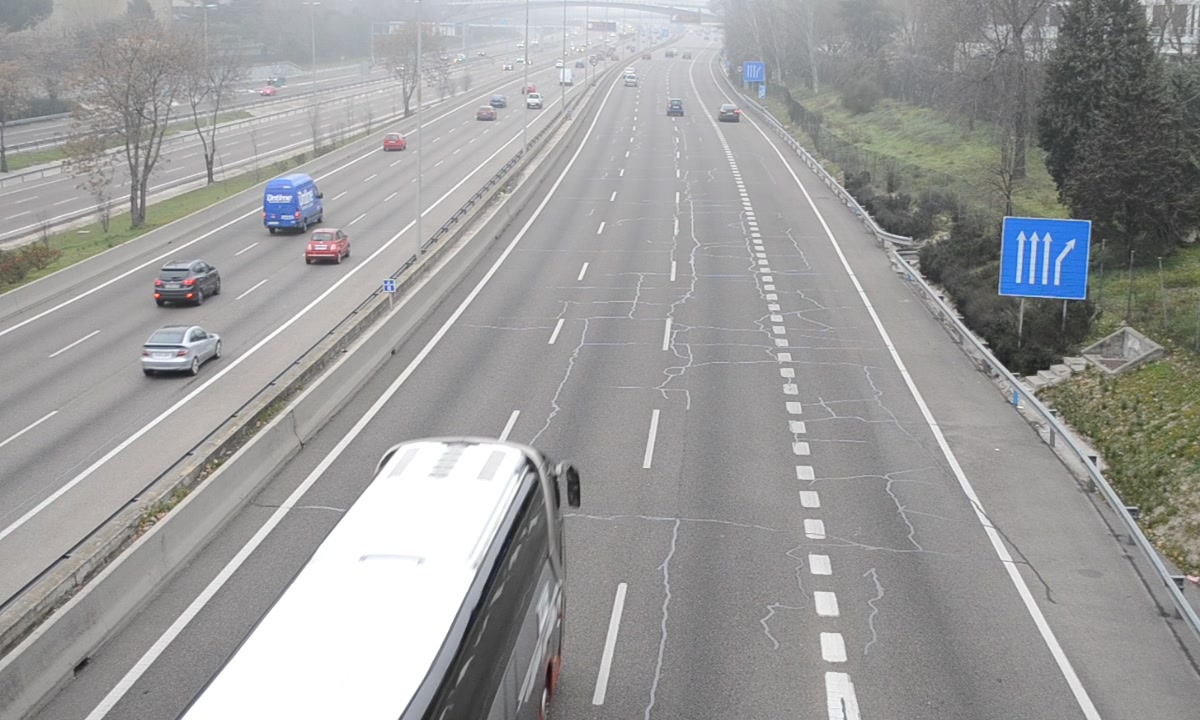bus: (190, 440, 562, 718)
car: (717, 103, 740, 124), (666, 97, 686, 118)
